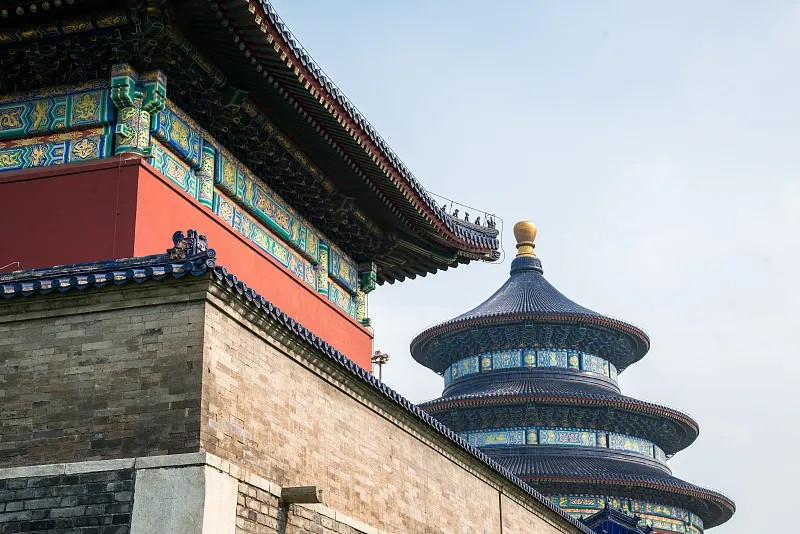Heaven: (410, 221, 736, 534)
